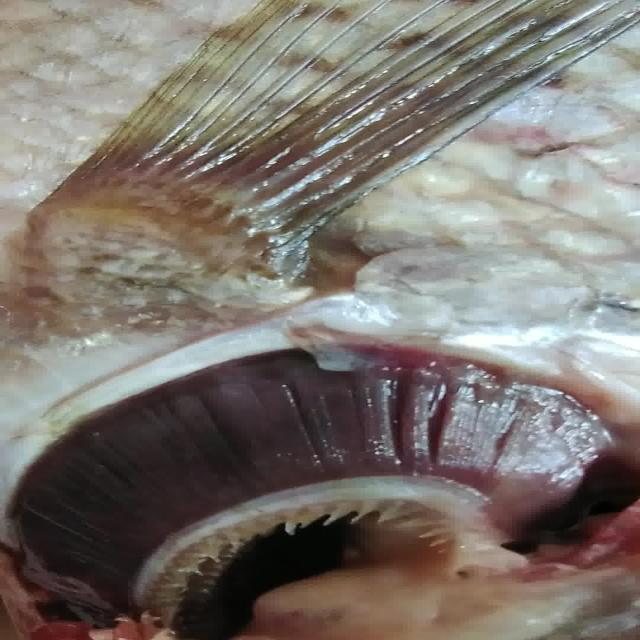Non-Fresh: (16, 330, 626, 622)
